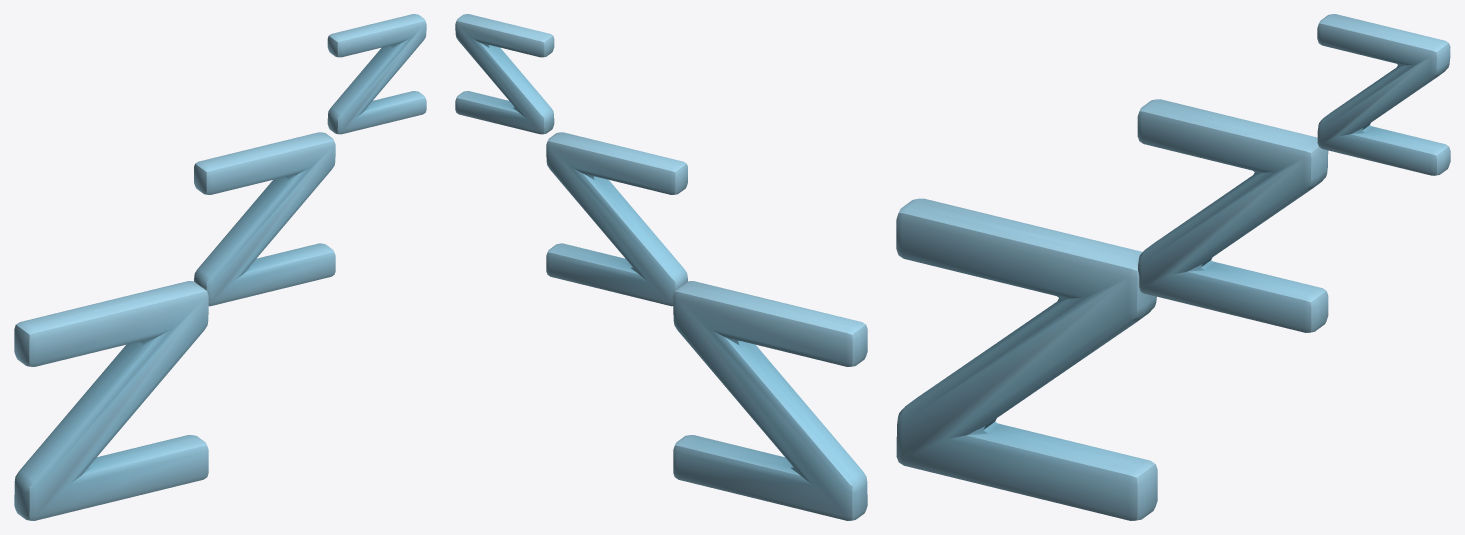
File: Zzz.fbx
3 views of the same model, side by side, from view 1: azimuth 30°, elevation 25°; view 2: azimuth 150°, elevation 25°; view 3: azimuth 330°, elevation 25° (orthographic). The views are drawn at different scales.
Parts seen in each view (by area): view 1: Zzz; view 2: Zzz; view 3: Zzz.
Part boxes in pixels (left/top/right/bottom): Zzz: left=14, top=14, right=426, bottom=520; Zzz: left=455, top=14, right=867, bottom=520; Zzz: left=896, top=14, right=1450, bottom=520.
Bounding box in the file's own units: 79 × 76 × 6.
